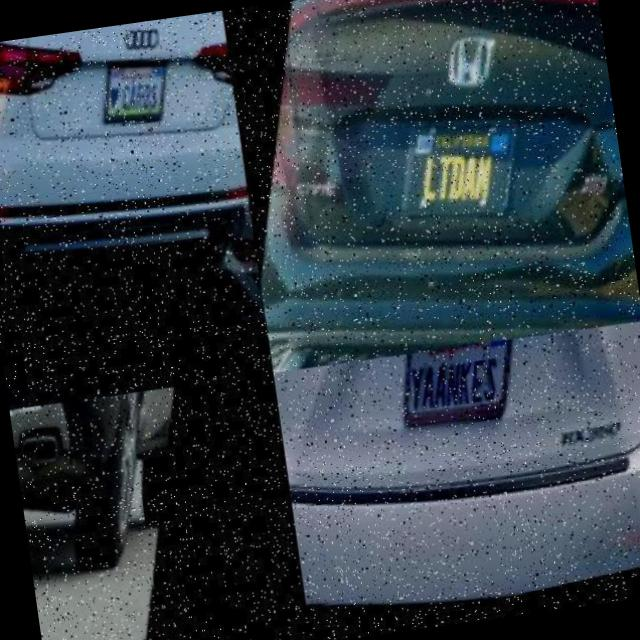LicensePlate: (392, 109, 536, 238), (392, 338, 536, 445), (99, 55, 180, 138), (9, 405, 46, 445)
